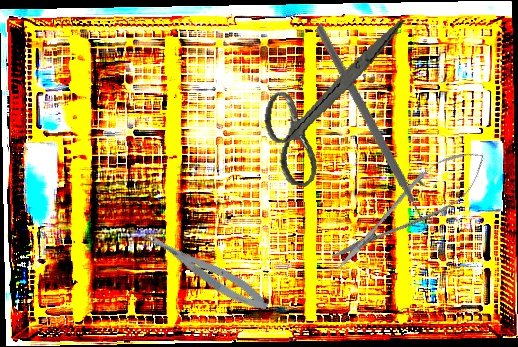Chopper: (247, 22, 489, 246)
Iris Scissors: (253, 0, 407, 199)
Micro Scissor: (321, 136, 497, 282), (138, 221, 273, 319)
